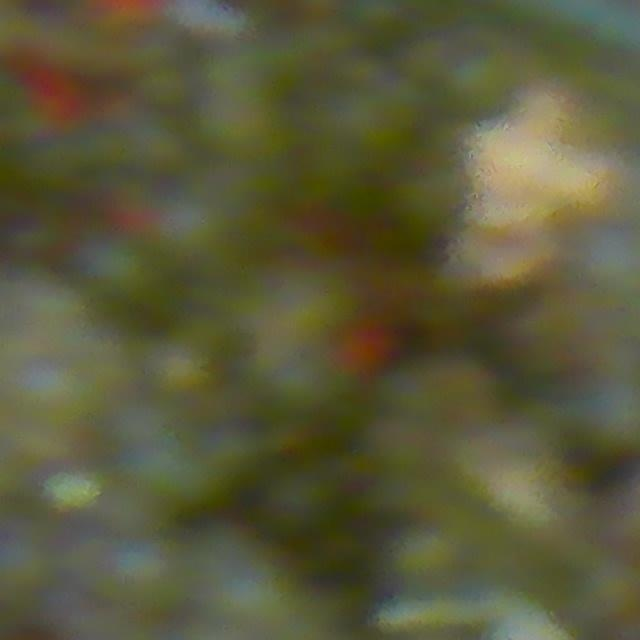SeaGrape: (574, 220, 640, 302), (99, 251, 171, 325), (110, 542, 190, 602)
